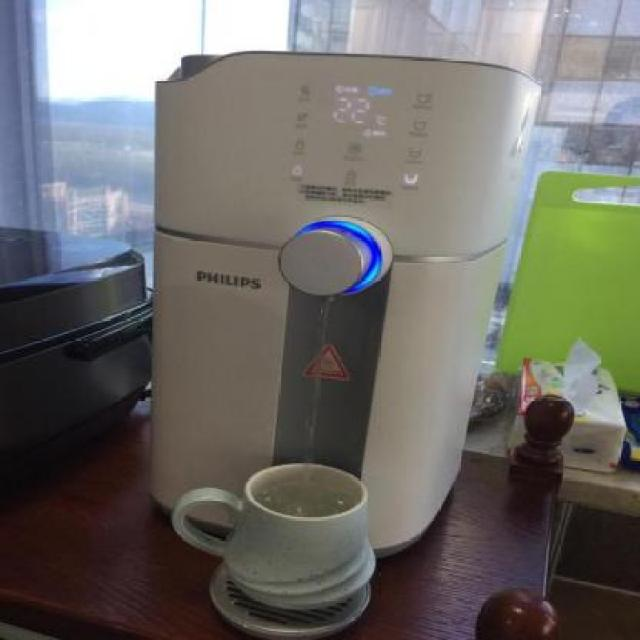cooler: (143, 49, 543, 562)
